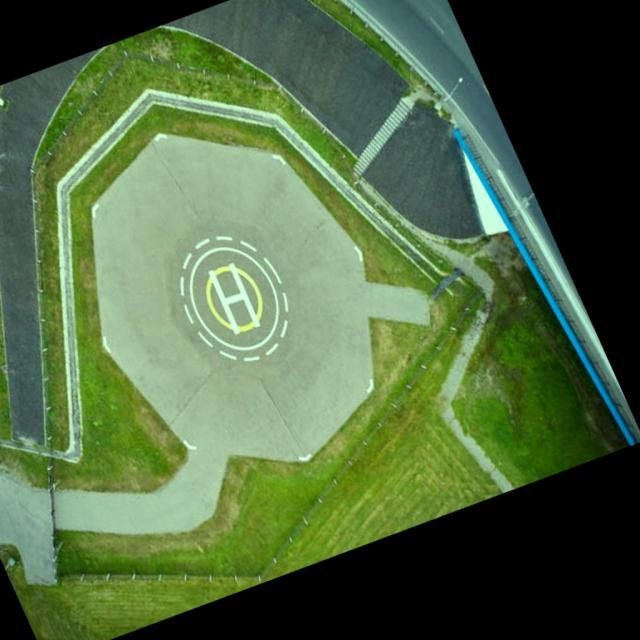helipad: (185, 243, 281, 353)
